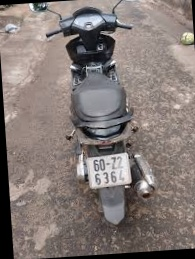Bien-so: (86, 158, 130, 196)
